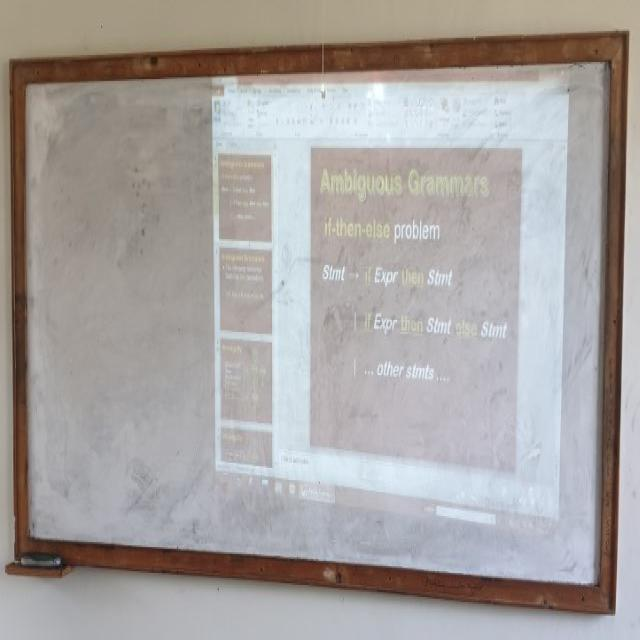Slide: (210, 60, 571, 541)
White-board: (19, 50, 618, 597)
